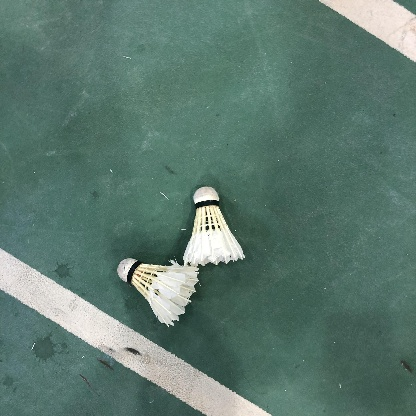ball_single: (117, 258, 199, 326), (183, 186, 245, 268)
